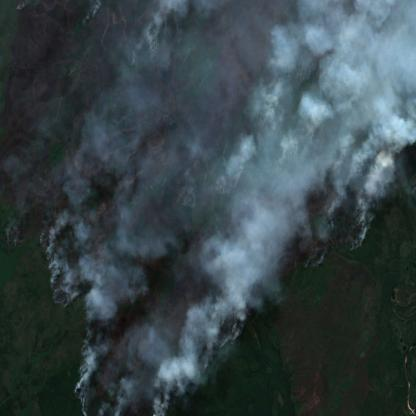fire: (287, 208, 381, 267), (38, 225, 79, 321), (73, 300, 105, 410), (122, 14, 172, 74), (202, 312, 239, 373), (112, 384, 178, 416), (0, 219, 27, 254), (70, 4, 106, 30), (13, 0, 30, 14)
